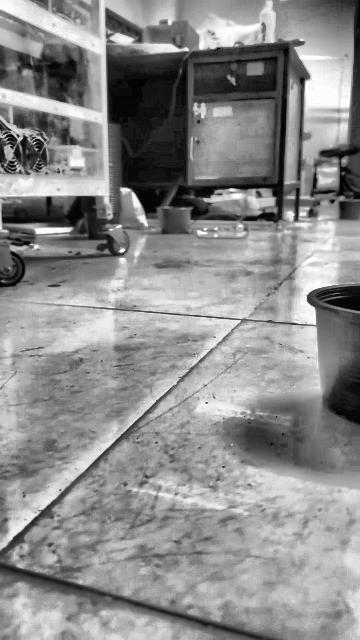pot: (307, 284, 360, 423)
